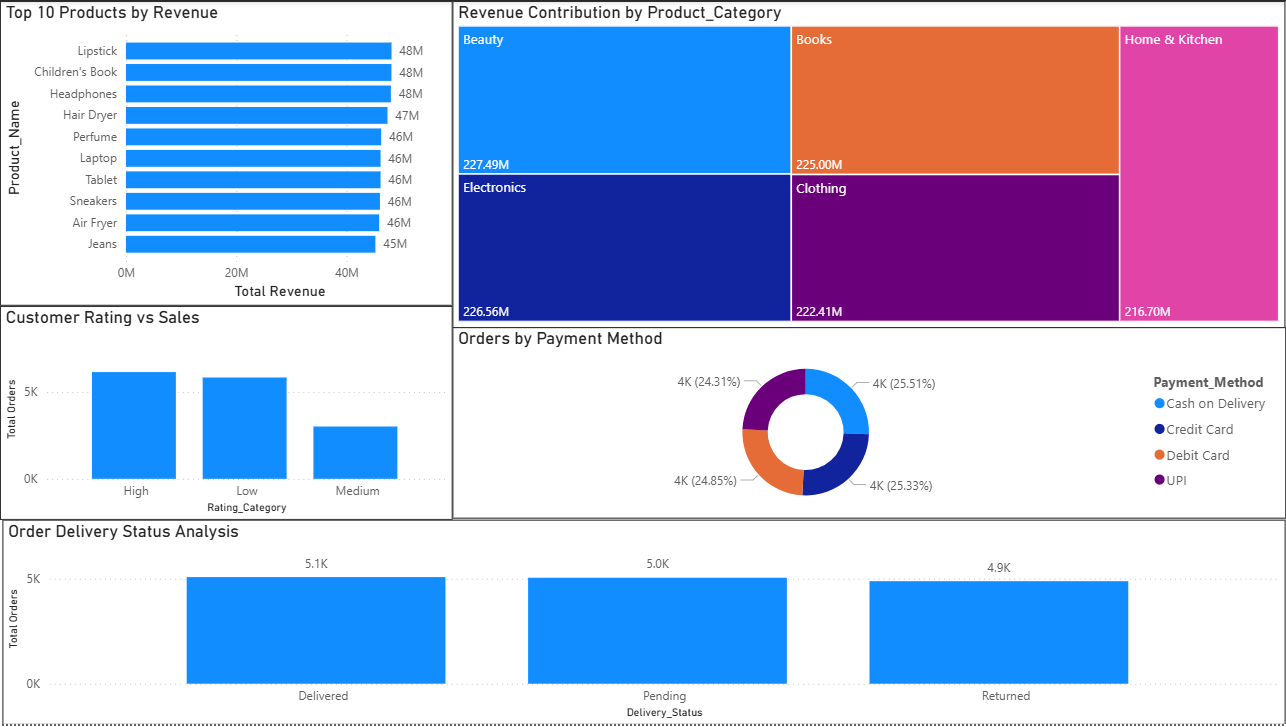

This screenshot's page, from the dashboard's own definition file:
{"tool":"powerbi","page":{"name":"Page 2","canvas":[1280,720],"ordinal":1},"visuals":[{"type":"barChart","title":"Top 10 Products by Revenue","fields":{"Category":["amazon_analysis amazon_sales_2025_inr.Product_Name"],"Y":["amazon_analysis amazon_sales_2025_inr.Total Revenue"]},"box":[0,0,450.3,303.5],"z":0},{"type":"treemap","title":"Revenue Contribution by Product_Category","fields":{"Group":["amazon_analysis amazon_sales_2025_inr.Product_Category"],"Values":["amazon_analysis amazon_sales_2025_inr.Total Revenue"]},"box":[450.6,0,828.6,325.3],"z":1000},{"type":"clusteredColumnChart","title":"Customer Rating vs Sales ","fields":{"Category":["amazon_analysis amazon_sales_2025_inr.Rating_Category"],"Y":["amazon_analysis amazon_sales_2025_inr.Total Orders"]},"box":[0,303.3,450.6,213.2],"z":2000},{"type":"donutChart","title":"Orders by Payment Method","fields":{"Category":["amazon_analysis amazon_sales_2025_inr.Payment_Method"],"Y":["amazon_analysis amazon_sales_2025_inr.Total Orders"]},"box":[450.3,324.7,829.7,190.3],"z":3000},{"type":"columnChart","title":"Order Delivery Status Analysis","fields":{"Category":["amazon_analysis amazon_sales_2025_inr.Delivery_Status"],"Y":["amazon_analysis amazon_sales_2025_inr.Total Orders"]},"box":[2.2,516.5,1276.9,204.4],"z":4000}]}

Visuals, with their boxes in screenshot pixels (x1, y1, x2, y2), scaled from the page's 1280x720 canvas onto the 1286x727 screenshot:
"Top 10 Products by Revenue" barChart: 0 0 452 306
"Revenue Contribution by Product_Category" treemap: 453 0 1285 328
"Customer Rating vs Sales " clusteredColumnChart: 0 306 453 522
"Orders by Payment Method" donutChart: 452 328 1285 520
"Order Delivery Status Analysis" columnChart: 2 522 1285 726
